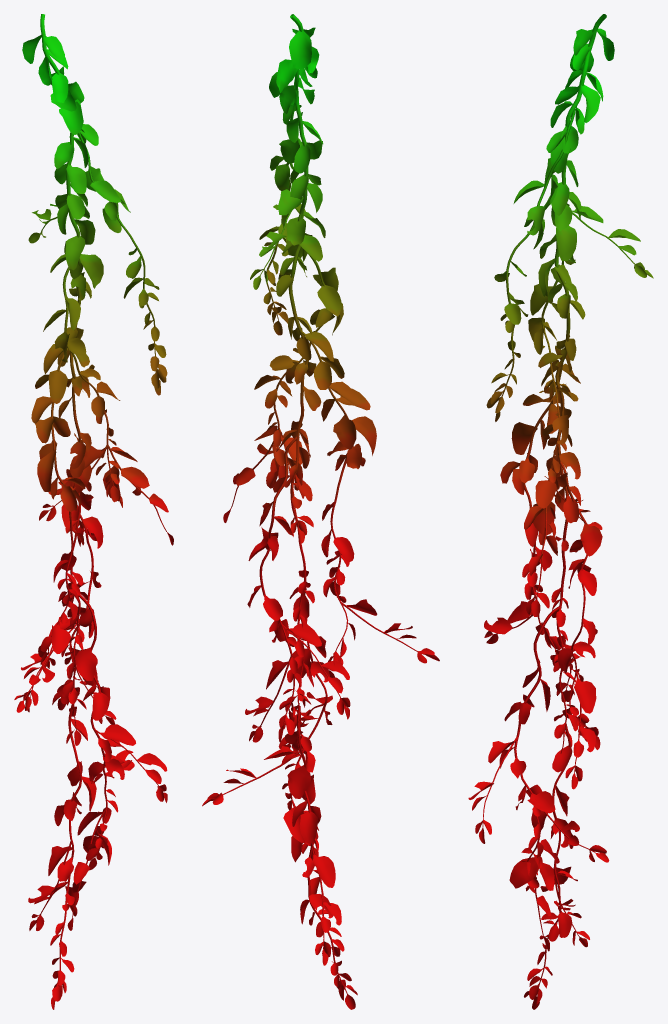
Rendered from tengman.fbx.
3 views of the same model, side by side, from view 1: azimuth 30°, elevation 25°; view 2: azimuth 150°, elevation 25°; view 3: azimuth 270°, elevation 25° (orthographic). The views are drawn at different scales.
Visible parts, largest first — view 1: _zcvo_Var8_LOD0; view 2: _zcvo_Var8_LOD0; view 3: _zcvo_Var8_LOD0.
Boxes of the visible parts, left/top/right/bottom form: _zcvo_Var8_LOD0: left=14, top=14, right=173, bottom=1009; _zcvo_Var8_LOD0: left=202, top=14, right=439, bottom=1009; _zcvo_Var8_LOD0: left=468, top=14, right=653, bottom=1009.
Bounding box in the file's own units: 79.91 × 410 × 68.3.
